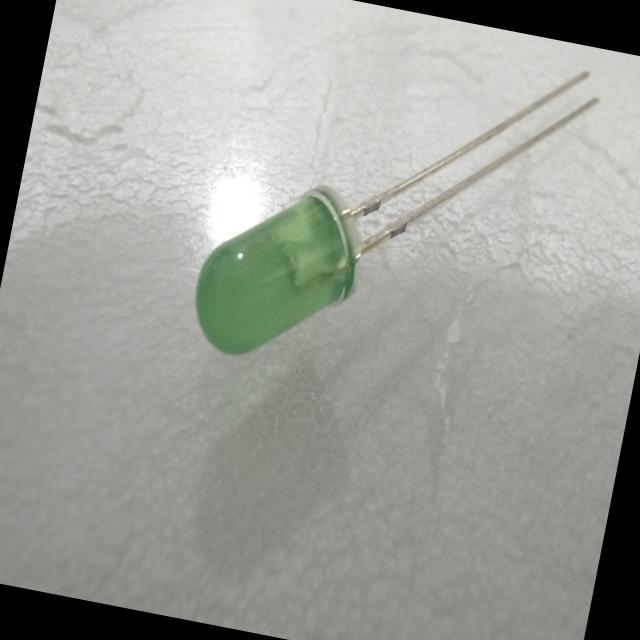green_led: (169, 149, 385, 391)
